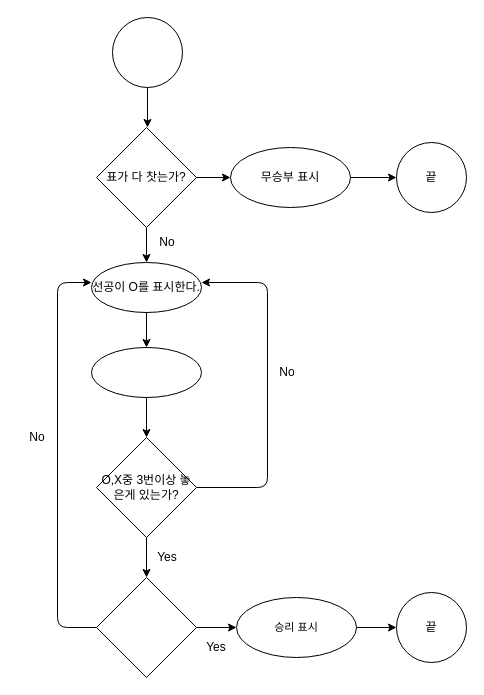
Image size: 484x695. Some labels were removed from this diagram. Here are the shapes that lost their labels. From the top down, the centre of each, then its label:
point 147,52: 시작
point 146,372: 후공이 X를 표시한다.
point 146,627: O,X 중 3연개가 연속으로 놓인게 있는가?
